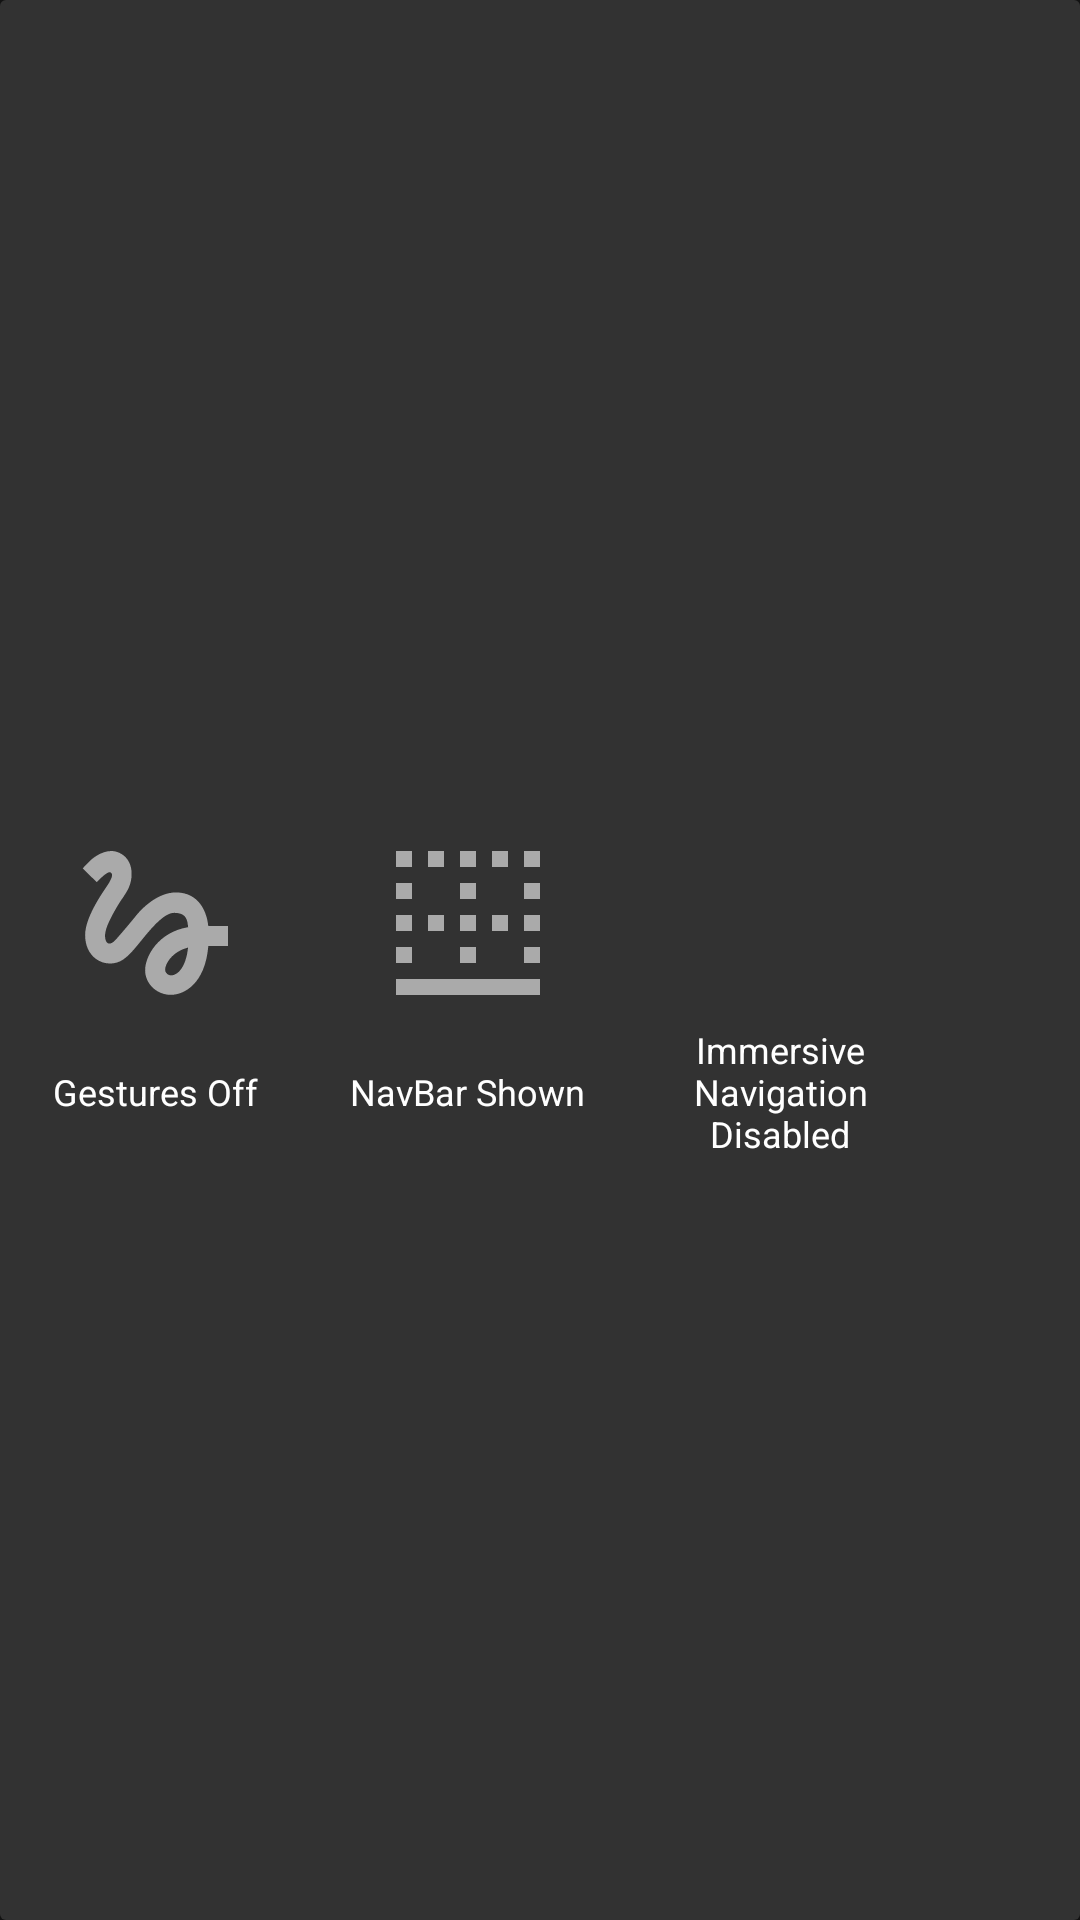

Icons on this 1080px x 1920px Android screen, each with its box as (x1, y1, x2, y2):
border bottom: (396, 851, 540, 995)
